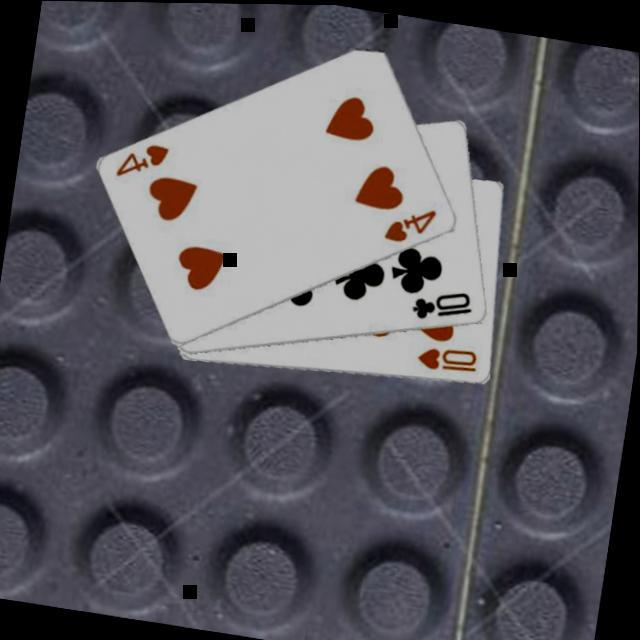10C: (409, 282, 480, 330)
10H: (416, 339, 484, 379)
4H: (382, 199, 444, 251), (114, 136, 175, 187)
